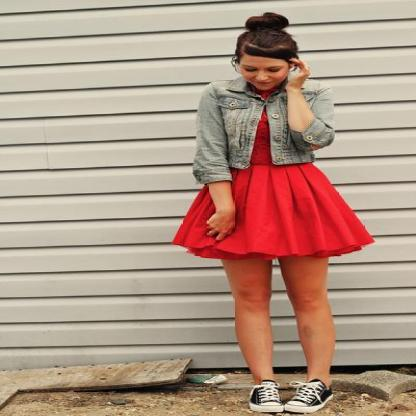jacket: (187, 64, 361, 191)
shirt: (212, 77, 286, 185)
shoe: (247, 374, 324, 416)
skirt: (162, 163, 386, 274)
